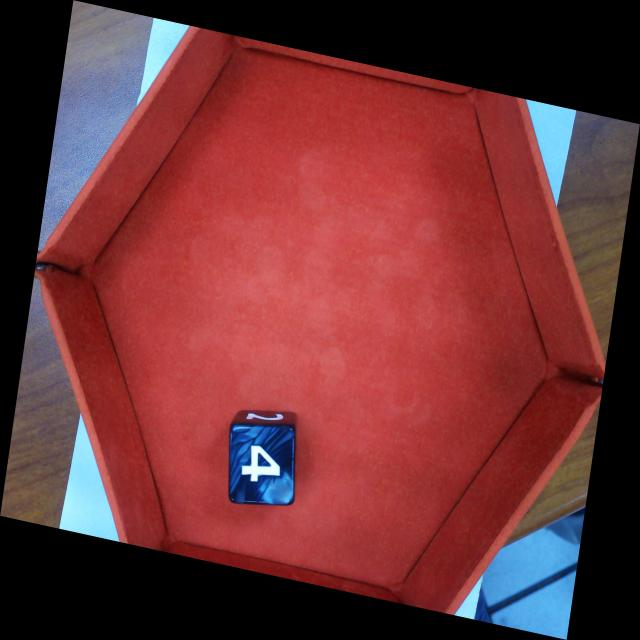dice: (228, 421, 296, 506)
